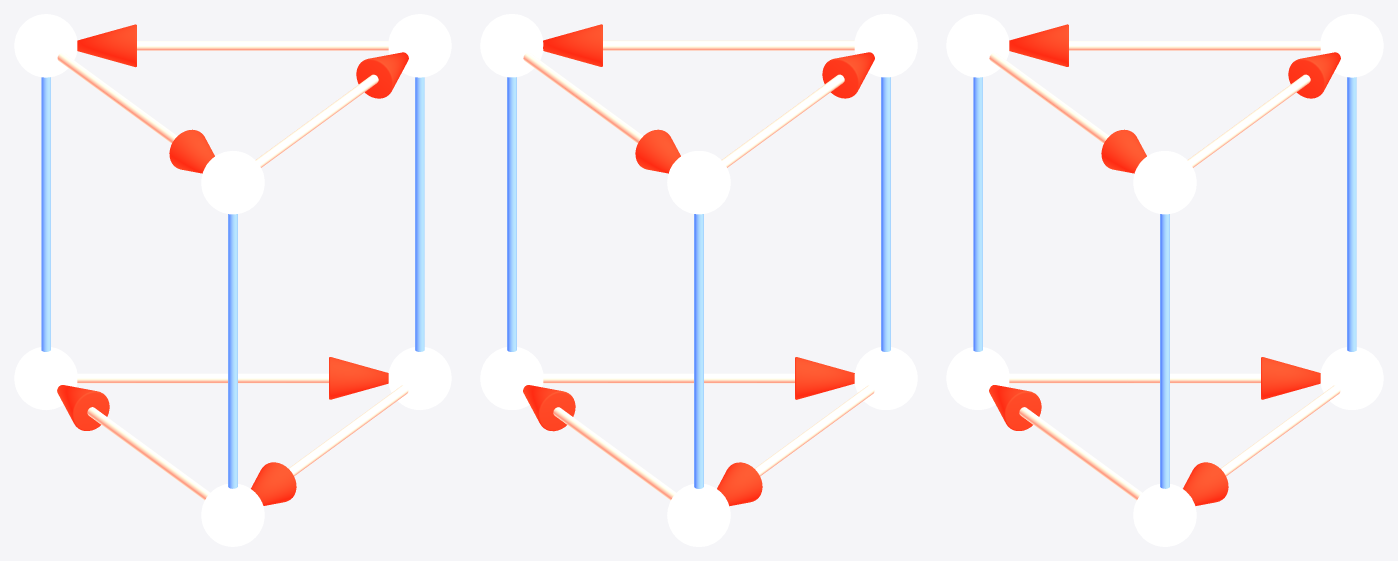
3 renders of one model, left to right at view 1: azimuth 30°, elevation 25°; view 2: azimuth 150°, elevation 25°; view 3: azimuth 270°, elevation 25°, orthographic.
Parts seen in each view (by area): view 1: Sphere1.0002, Sphere2.0002, Sphere1.0001, Sphere2.0000, Sphere1.0000, Sphere2.0001, Vertical.0000, Vertical.0001, Vertical.0002, Stick2.0002, Stick1.0000, Arrow2.0002 (+9 smaller); view 2: Sphere1.0001, Sphere2.0001, Sphere1.0000, Sphere2.0002, Sphere1.0002, Sphere2.0000, Stick1.0002, Vertical.0000, Vertical.0001, Vertical.0002, Stick2.0000, Arrow2.0000 (+9 smaller); view 3: Sphere1.0000, Sphere2.0000, Sphere1.0002, Sphere2.0001, Sphere1.0001, Sphere2.0002, Vertical.0001, Vertical.0002, Vertical.0000, Stick2.0001, Stick1.0001, Arrow2.0001 (+9 smaller).
Part boxes in pixels (x1,y1,x2,y2): Sphere1.0002: (201, 151, 264, 214); Sphere2.0002: (201, 484, 264, 546); Sphere1.0001: (14, 14, 77, 77); Sphere2.0000: (388, 347, 451, 409); Sphere1.0000: (388, 14, 451, 77); Sphere2.0001: (14, 347, 77, 410); Vertical.0000: (415, 77, 424, 351); Vertical.0001: (41, 77, 50, 351); Vertical.0002: (228, 214, 237, 488); Stick2.0002: (77, 373, 328, 383); Stick1.0000: (137, 41, 388, 50); Arrow2.0002: (329, 357, 388, 399); Sphere1.0001: (667, 151, 730, 214); Sphere2.0001: (667, 484, 730, 546); Sphere1.0000: (480, 14, 543, 77); Sphere2.0002: (854, 347, 917, 409); Sphere1.0002: (854, 14, 917, 77); Sphere2.0000: (480, 347, 543, 409); Stick1.0002: (603, 40, 854, 50); Vertical.0000: (507, 77, 516, 351); Vertical.0001: (694, 214, 703, 488); Vertical.0002: (881, 77, 890, 351); Stick2.0000: (543, 373, 794, 383); Arrow2.0000: (795, 357, 854, 399); Sphere1.0000: (1133, 151, 1196, 214); Sphere2.0000: (1133, 484, 1196, 546); Sphere1.0002: (946, 14, 1009, 77); Sphere2.0001: (1320, 347, 1383, 409); Sphere1.0001: (1320, 14, 1383, 77); Sphere2.0002: (946, 347, 1009, 409); Vertical.0001: (1347, 77, 1356, 351); Vertical.0002: (973, 77, 982, 351); Vertical.0000: (1160, 214, 1169, 488); Stick2.0001: (1009, 373, 1260, 383); Stick1.0001: (1069, 41, 1320, 50); Arrow2.0001: (1261, 357, 1320, 399).
Size of the model in its own units: 0.7896 by 0.8776 by 0.8918.
